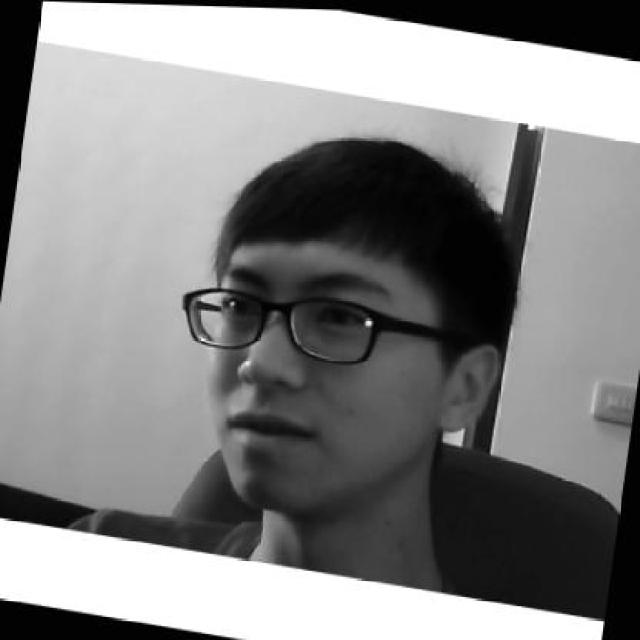attentif: (153, 103, 524, 539)
